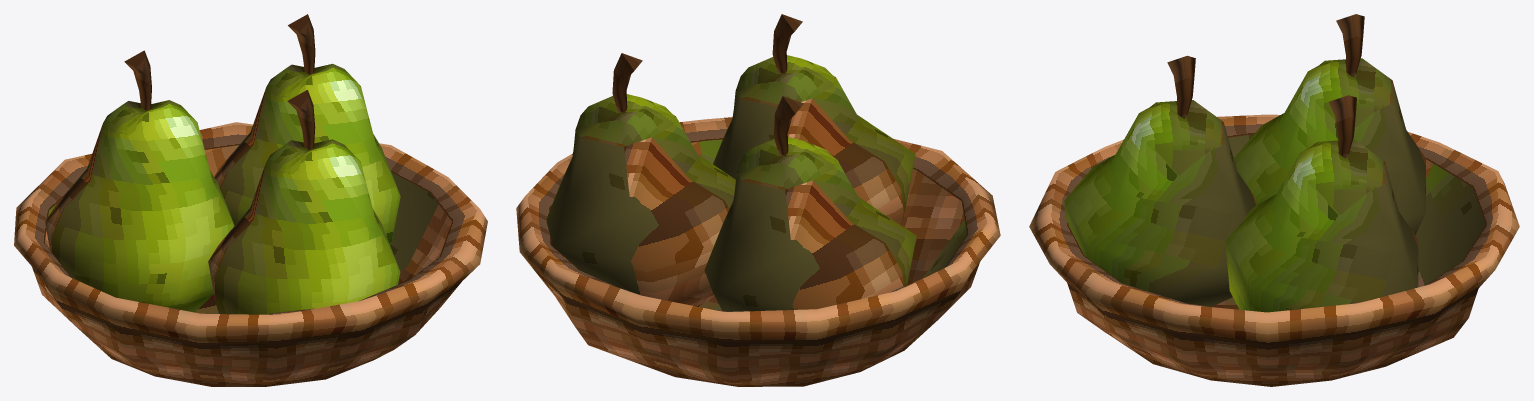
The model's file is int_fru_pear.dae.
The picture shows the model from 3 angles, left to right: view 1: azimuth 30°, elevation 25°; view 2: azimuth 150°, elevation 25°; view 3: azimuth 270°, elevation 25°; orthographic projection. The views are drawn at different scales.
Visible parts, largest first — view 1: int_fru_pear; view 2: int_fru_pear; view 3: int_fru_pear.
Part boxes in pixels (x1,y1,x2,y2): int_fru_pear: (14,14,487,386); int_fru_pear: (516,14,1000,386); int_fru_pear: (1029,14,1519,386).
Size of the model in its own units: 28.3 by 17.17 by 28.27.
1 material, 1 textured.
